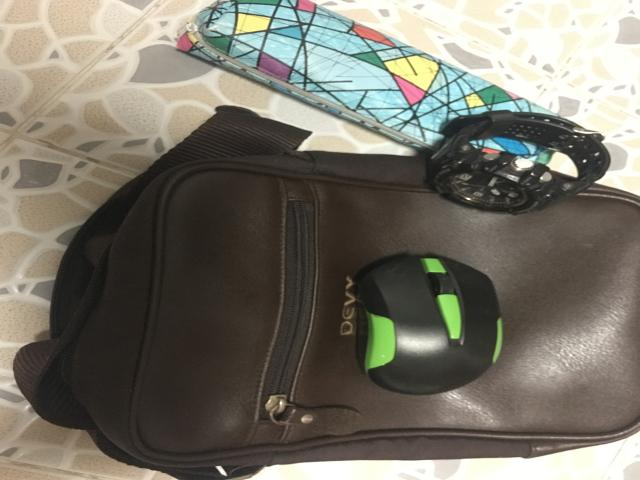Mouse: (358, 255, 503, 395)
Watch: (428, 111, 610, 214)
